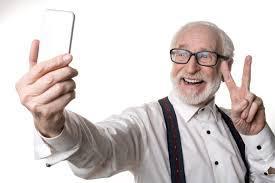0: (174, 31, 211, 98)
1: (219, 58, 261, 122)
Hand: (12, 44, 84, 105)
Smartphone: (33, 8, 72, 77)
